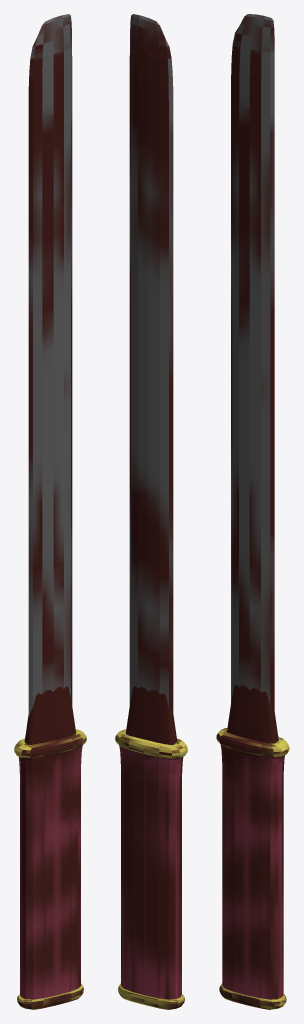
Rendered from katana.fbx.
3 renders of one model, left to right at view 1: azimuth 30°, elevation 25°; view 2: azimuth 150°, elevation 25°; view 3: azimuth 330°, elevation 25°, orthographic.
Parts seen in each view (by area): view 1: Cube; view 2: Cube; view 3: Cube.
Boxes of the visible parts, box(x1,y1,x2,y2) form: Cube: box(14, 14, 86, 1009); Cube: box(115, 14, 187, 1009); Cube: box(216, 14, 289, 1009).
Size of the model in its own units: 118 by 1603 by 47.
Materials: 1 (1 with a texture image).
